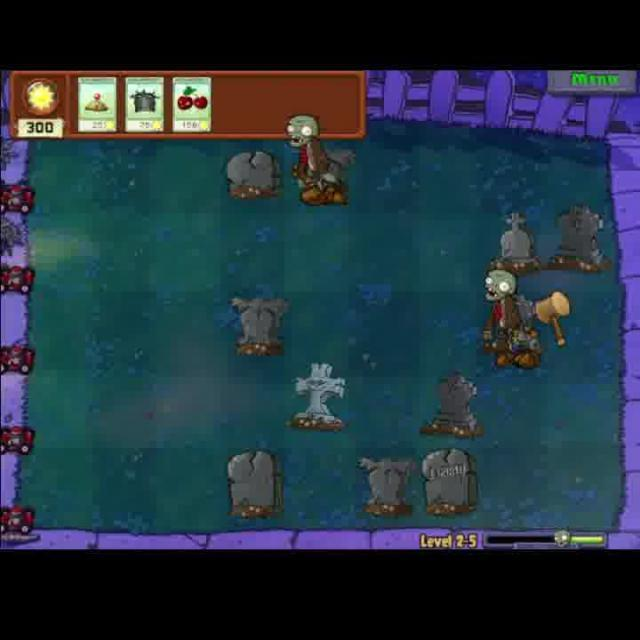zombies: (474, 264, 536, 372), (284, 111, 338, 206)
